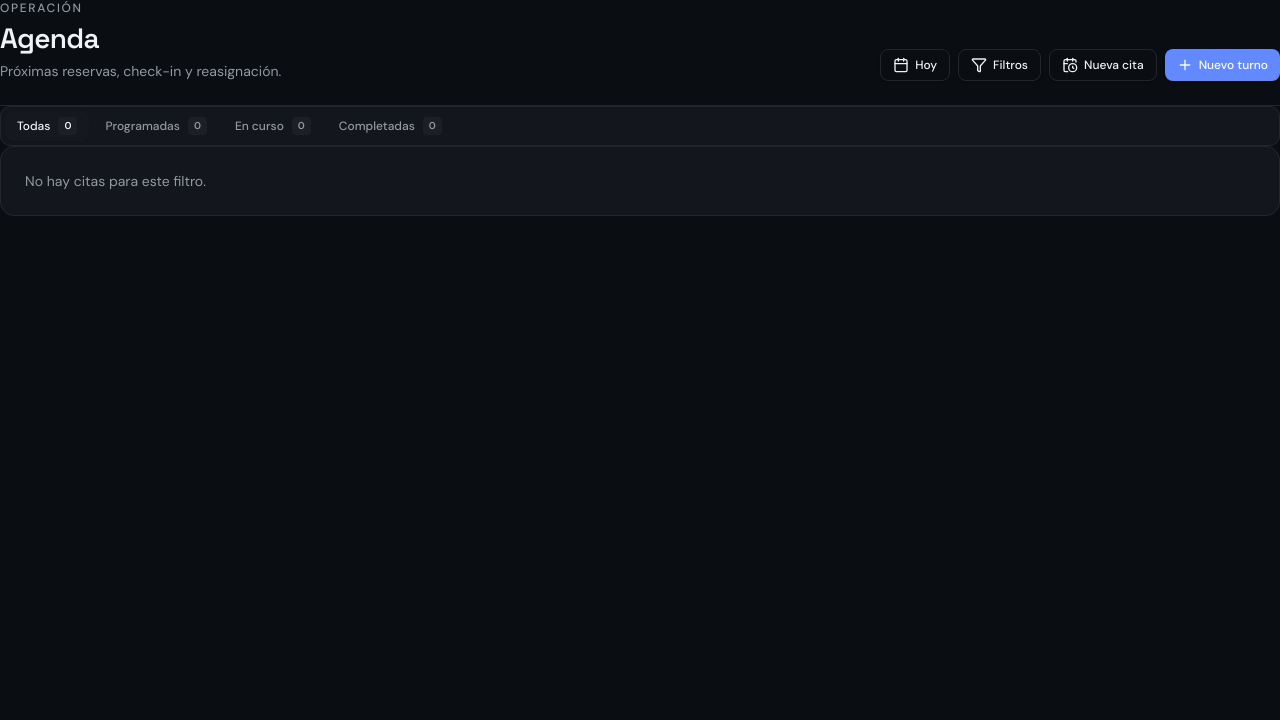
AppointmentsView › opens the scheduled appointment dialog from Nueva cita
Click the button "Nueva cita" at x=1103, y=65, box [1049,49,1157,81]
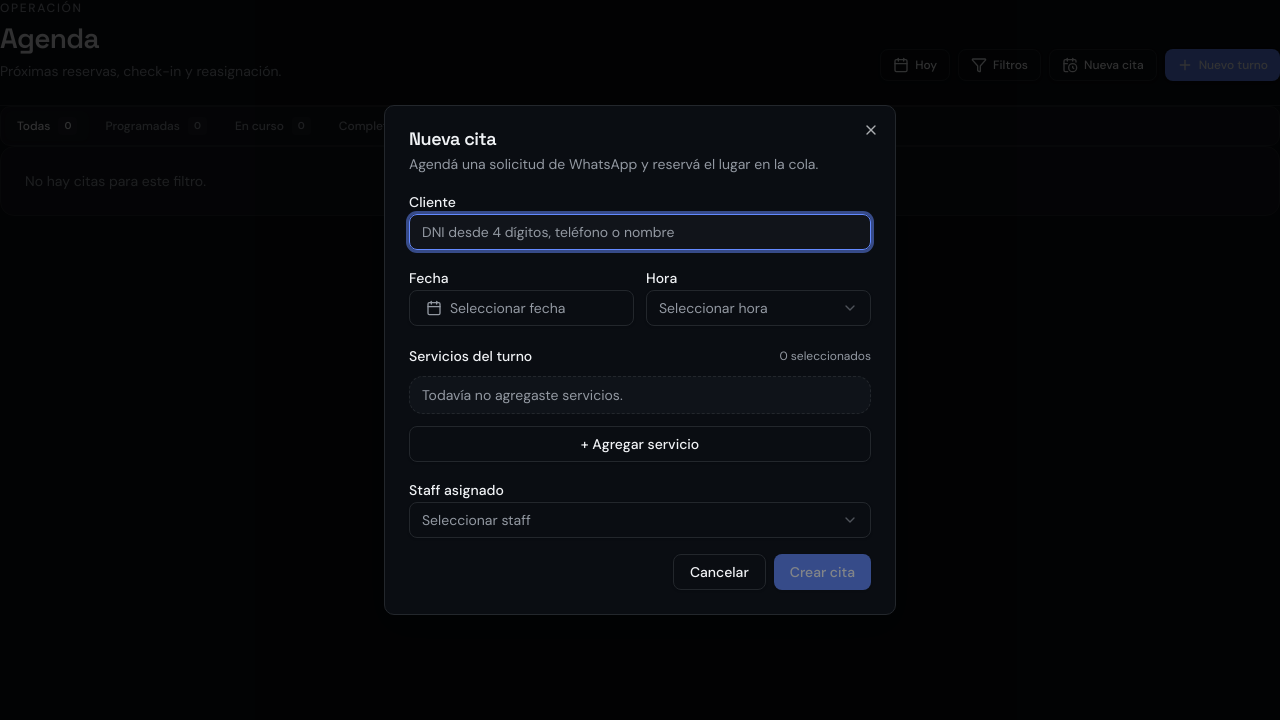
Check: the dialog "Nueva cita" is shown, box [384,105,896,615]
